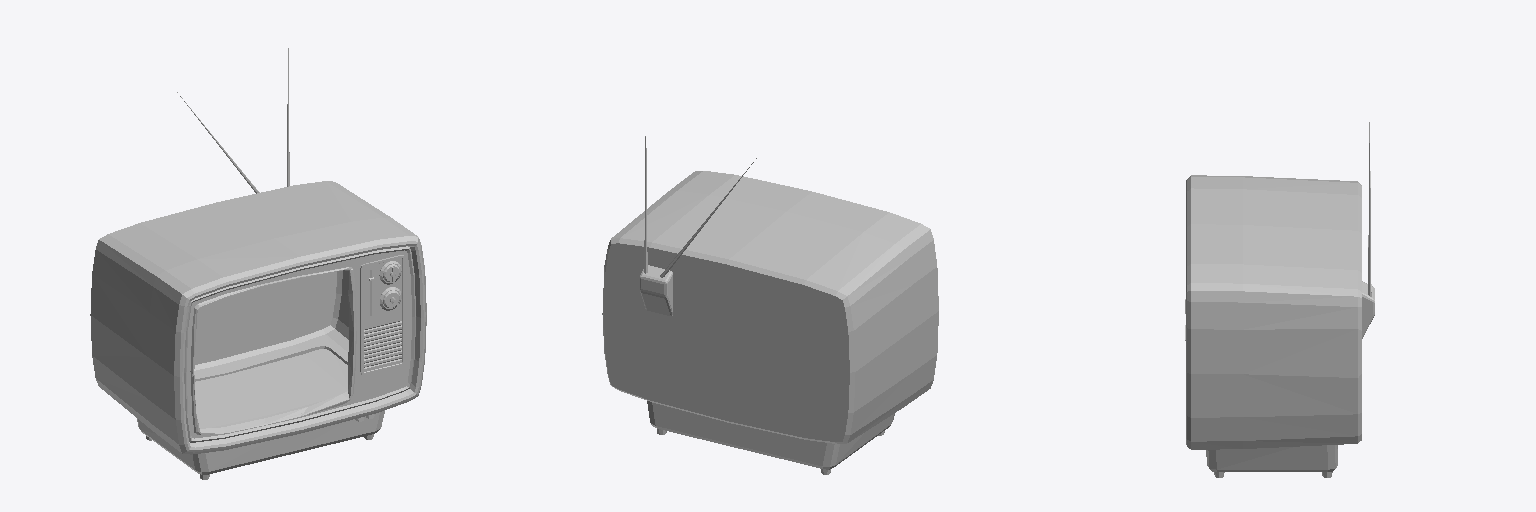
Rendered from yellowtv.obj.
3 views of the same model, side by side, from view 1: azimuth 30°, elevation 25°; view 2: azimuth 150°, elevation 25°; view 3: azimuth 270°, elevation 25° (orthographic).
Parts seen in each view (by area): view 1: tv_Retro_TV; view 2: tv_Retro_TV; view 3: tv_Retro_TV.
Boxes of the visible parts, x1=… form: tv_Retro_TV: x1=90, y1=48, x2=426, y2=479; tv_Retro_TV: x1=602, y1=136, x2=938, y2=474; tv_Retro_TV: x1=1185, y1=122, x2=1374, y2=477.
Bounding box in the file's own units: 110 × 150 × 71.95.